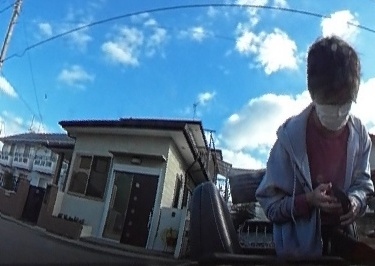person: (262, 33, 368, 255)
